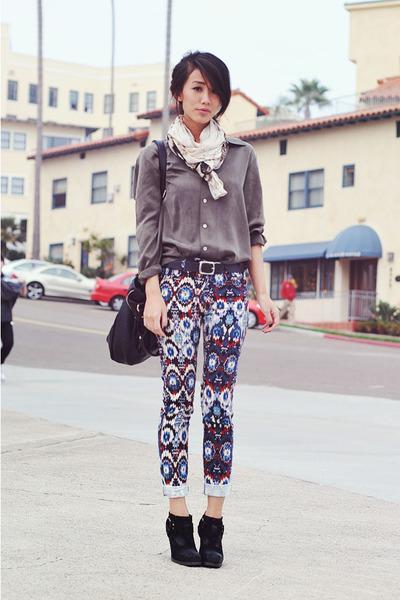long sleeve shirt: (129, 132, 265, 282)
trousers: (138, 257, 262, 502)
